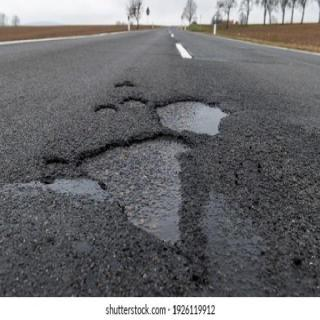pothole: (82, 140, 191, 242), (156, 102, 221, 136), (96, 97, 148, 112)
